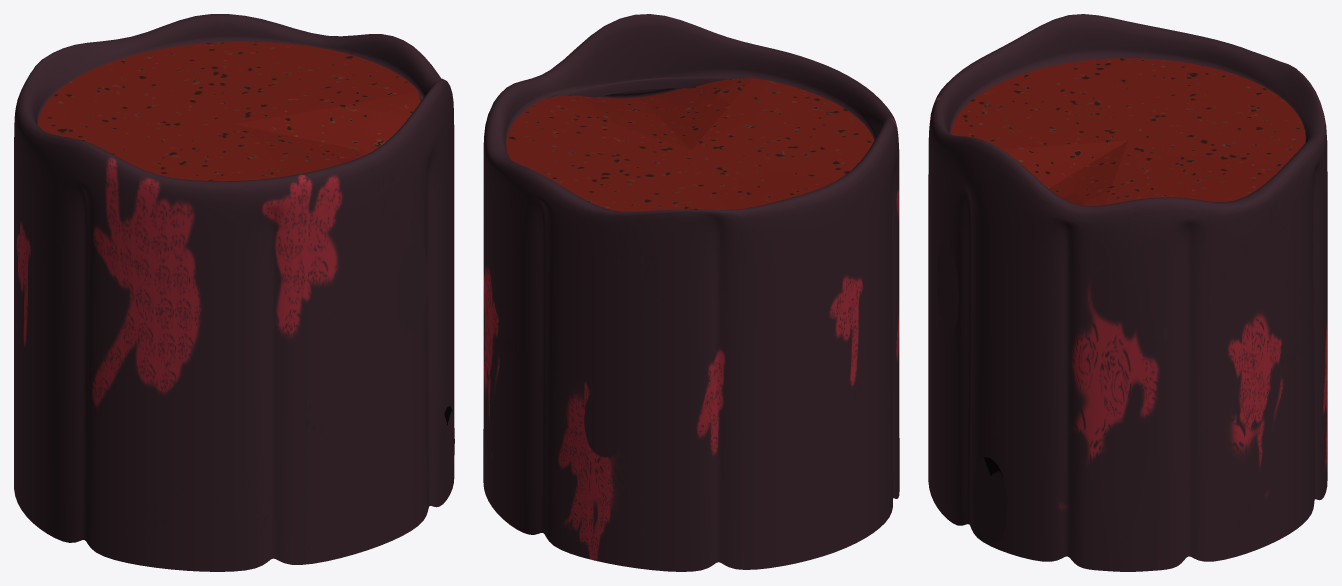
The model's file is Stump_Tall_Variation.fbx.
3 views of the same model, side by side, from view 1: azimuth 30°, elevation 25°; view 2: azimuth 150°, elevation 25°; view 3: azimuth 270°, elevation 25° (orthographic). The views are drawn at different scales.
Visible parts, largest first — view 1: Stump.001; view 2: Stump.001; view 3: Stump.001.
Part boxes in pixels (x1,y1,x2,y2): Stump.001: (14, 14, 454, 571); Stump.001: (483, 14, 899, 571); Stump.001: (928, 14, 1327, 571).
Size of the model in its own units: 171 by 175 by 159.
